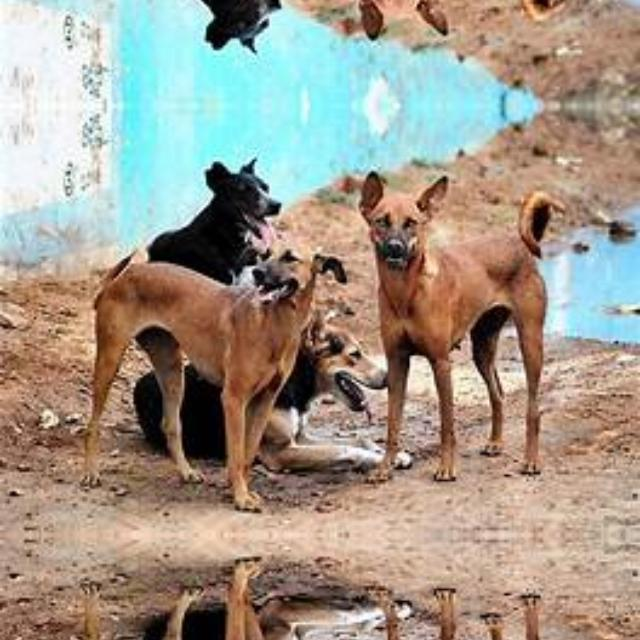dog: (362, 178, 548, 466), (362, 603, 547, 640), (362, 0, 547, 31)
